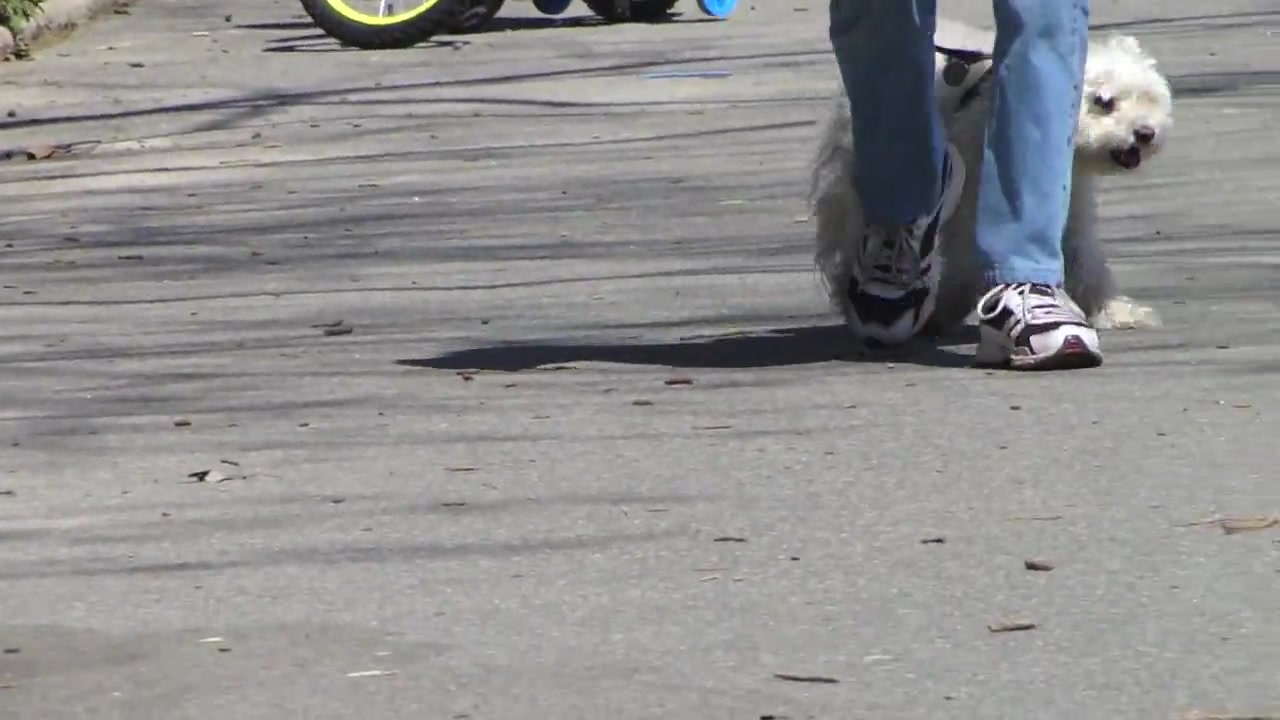dog: (806, 17, 1174, 349)
